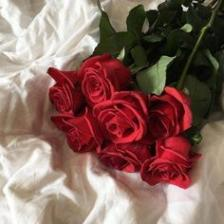red: (48, 54, 200, 188)
